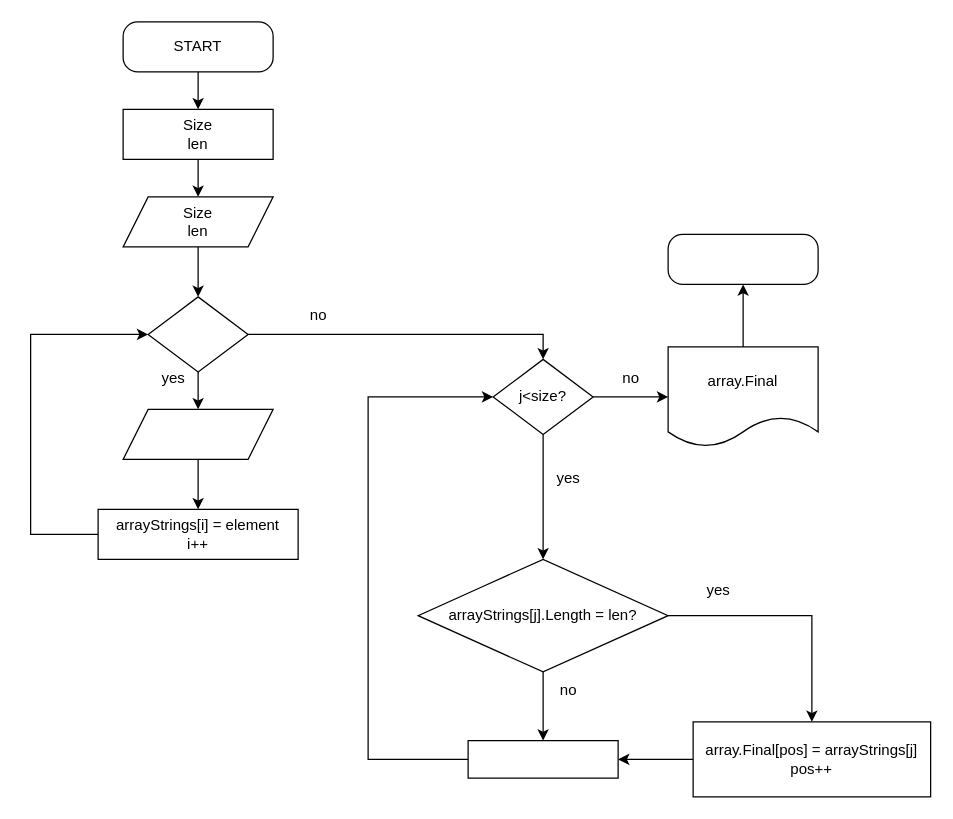
Image size: 953x819. Some labels were removed from this diagram. Each missing label, with the box of its shape:
element: (122, 408, 273, 459)
END: (667, 233, 818, 284)
i < size?: (147, 296, 248, 372)
j++: (467, 739, 618, 778)
